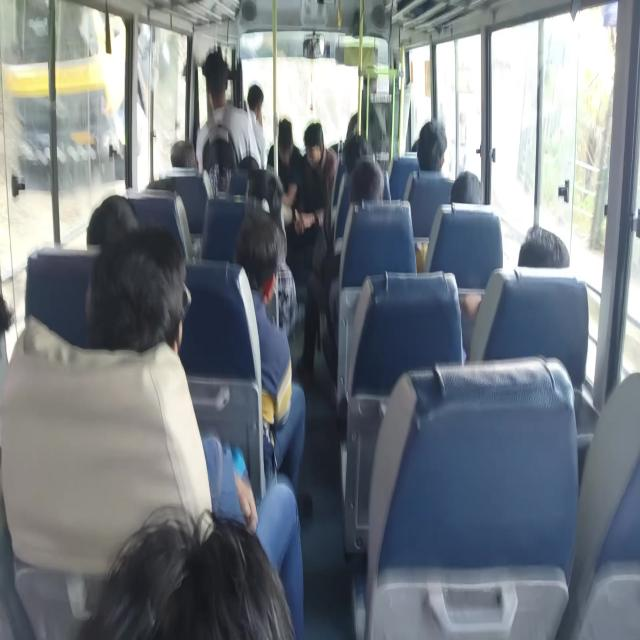person: (118, 485, 274, 640), (102, 239, 183, 359), (242, 209, 278, 290), (523, 218, 566, 283), (86, 203, 133, 253), (349, 160, 384, 216), (0, 268, 23, 351), (421, 118, 449, 179), (254, 172, 290, 218), (202, 51, 232, 103), (340, 130, 378, 169), (168, 141, 202, 180), (451, 179, 482, 220), (140, 171, 177, 205), (303, 122, 329, 160), (275, 114, 297, 152), (249, 76, 268, 116), (406, 130, 430, 156), (240, 154, 264, 179)
